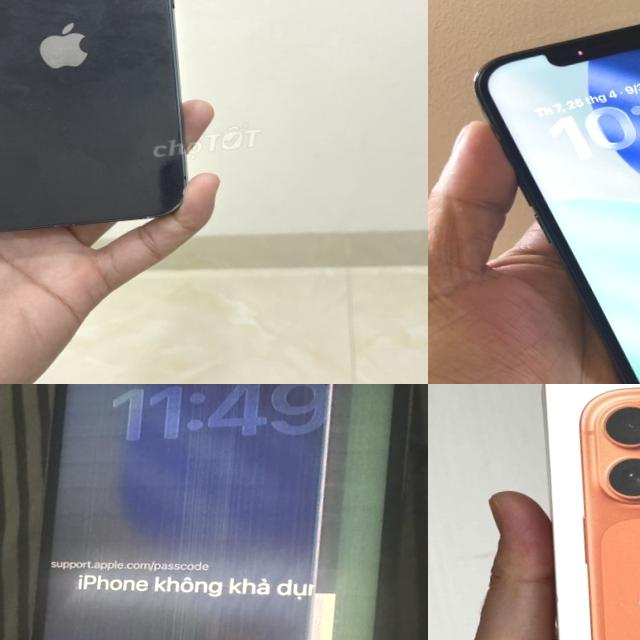gen_12_13: (0, 384, 428, 640), (475, 24, 640, 384), (0, 0, 204, 245)
gen_17: (560, 384, 640, 640)
